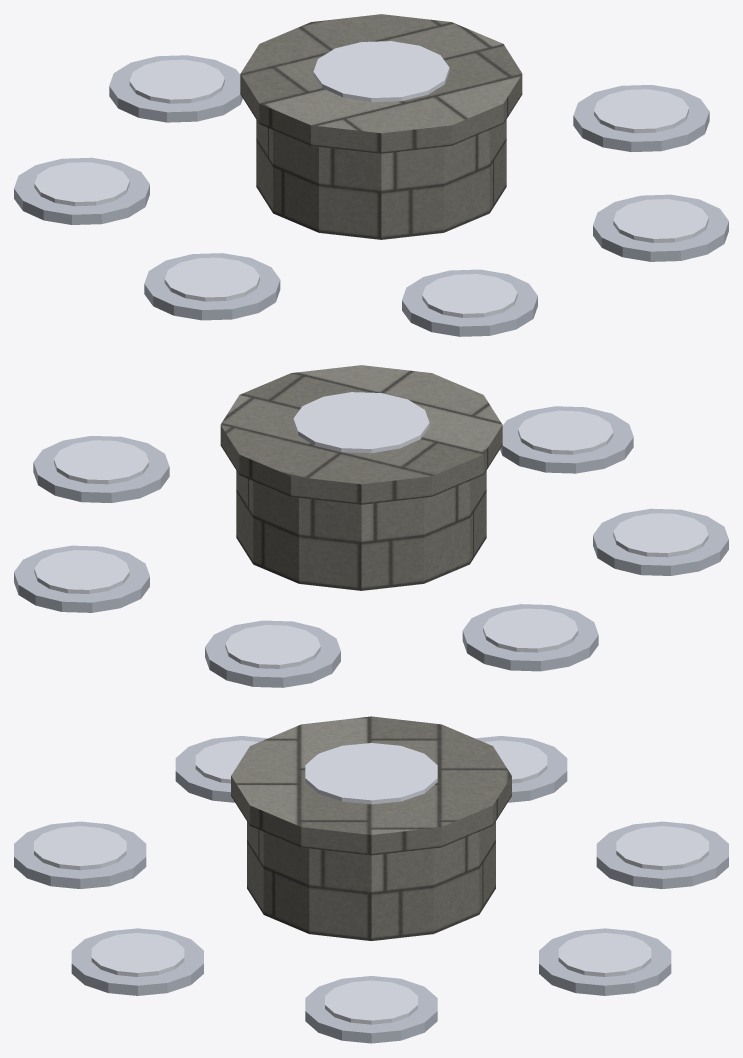
Rendered from ritual_circle.glb.
3 renders of one model, top to bottom at view 1: azimuth 30°, elevation 25°; view 2: azimuth 150°, elevation 25°; view 3: azimuth 270°, elevation 25°, orthographic.
Parts seen in each view (by area): view 1: model; view 2: model; view 3: model.
Boxes of the visible parts, bbox=[...] form: model: bbox=[14, 14, 728, 336]; model: bbox=[14, 365, 728, 687]; model: bbox=[14, 716, 728, 1043].
Size of the model in its own units: 3.11 by 0.57 by 3.16.
Materials: 3 (1 with a texture image).
